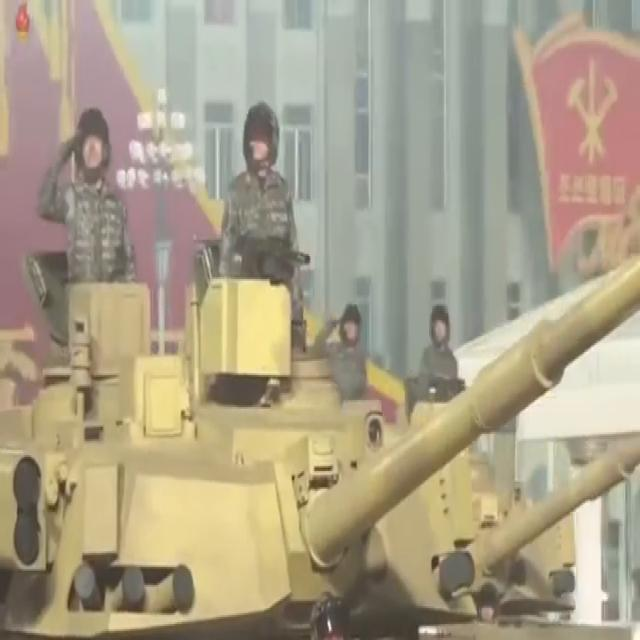north tank: (13, 238, 640, 640)
